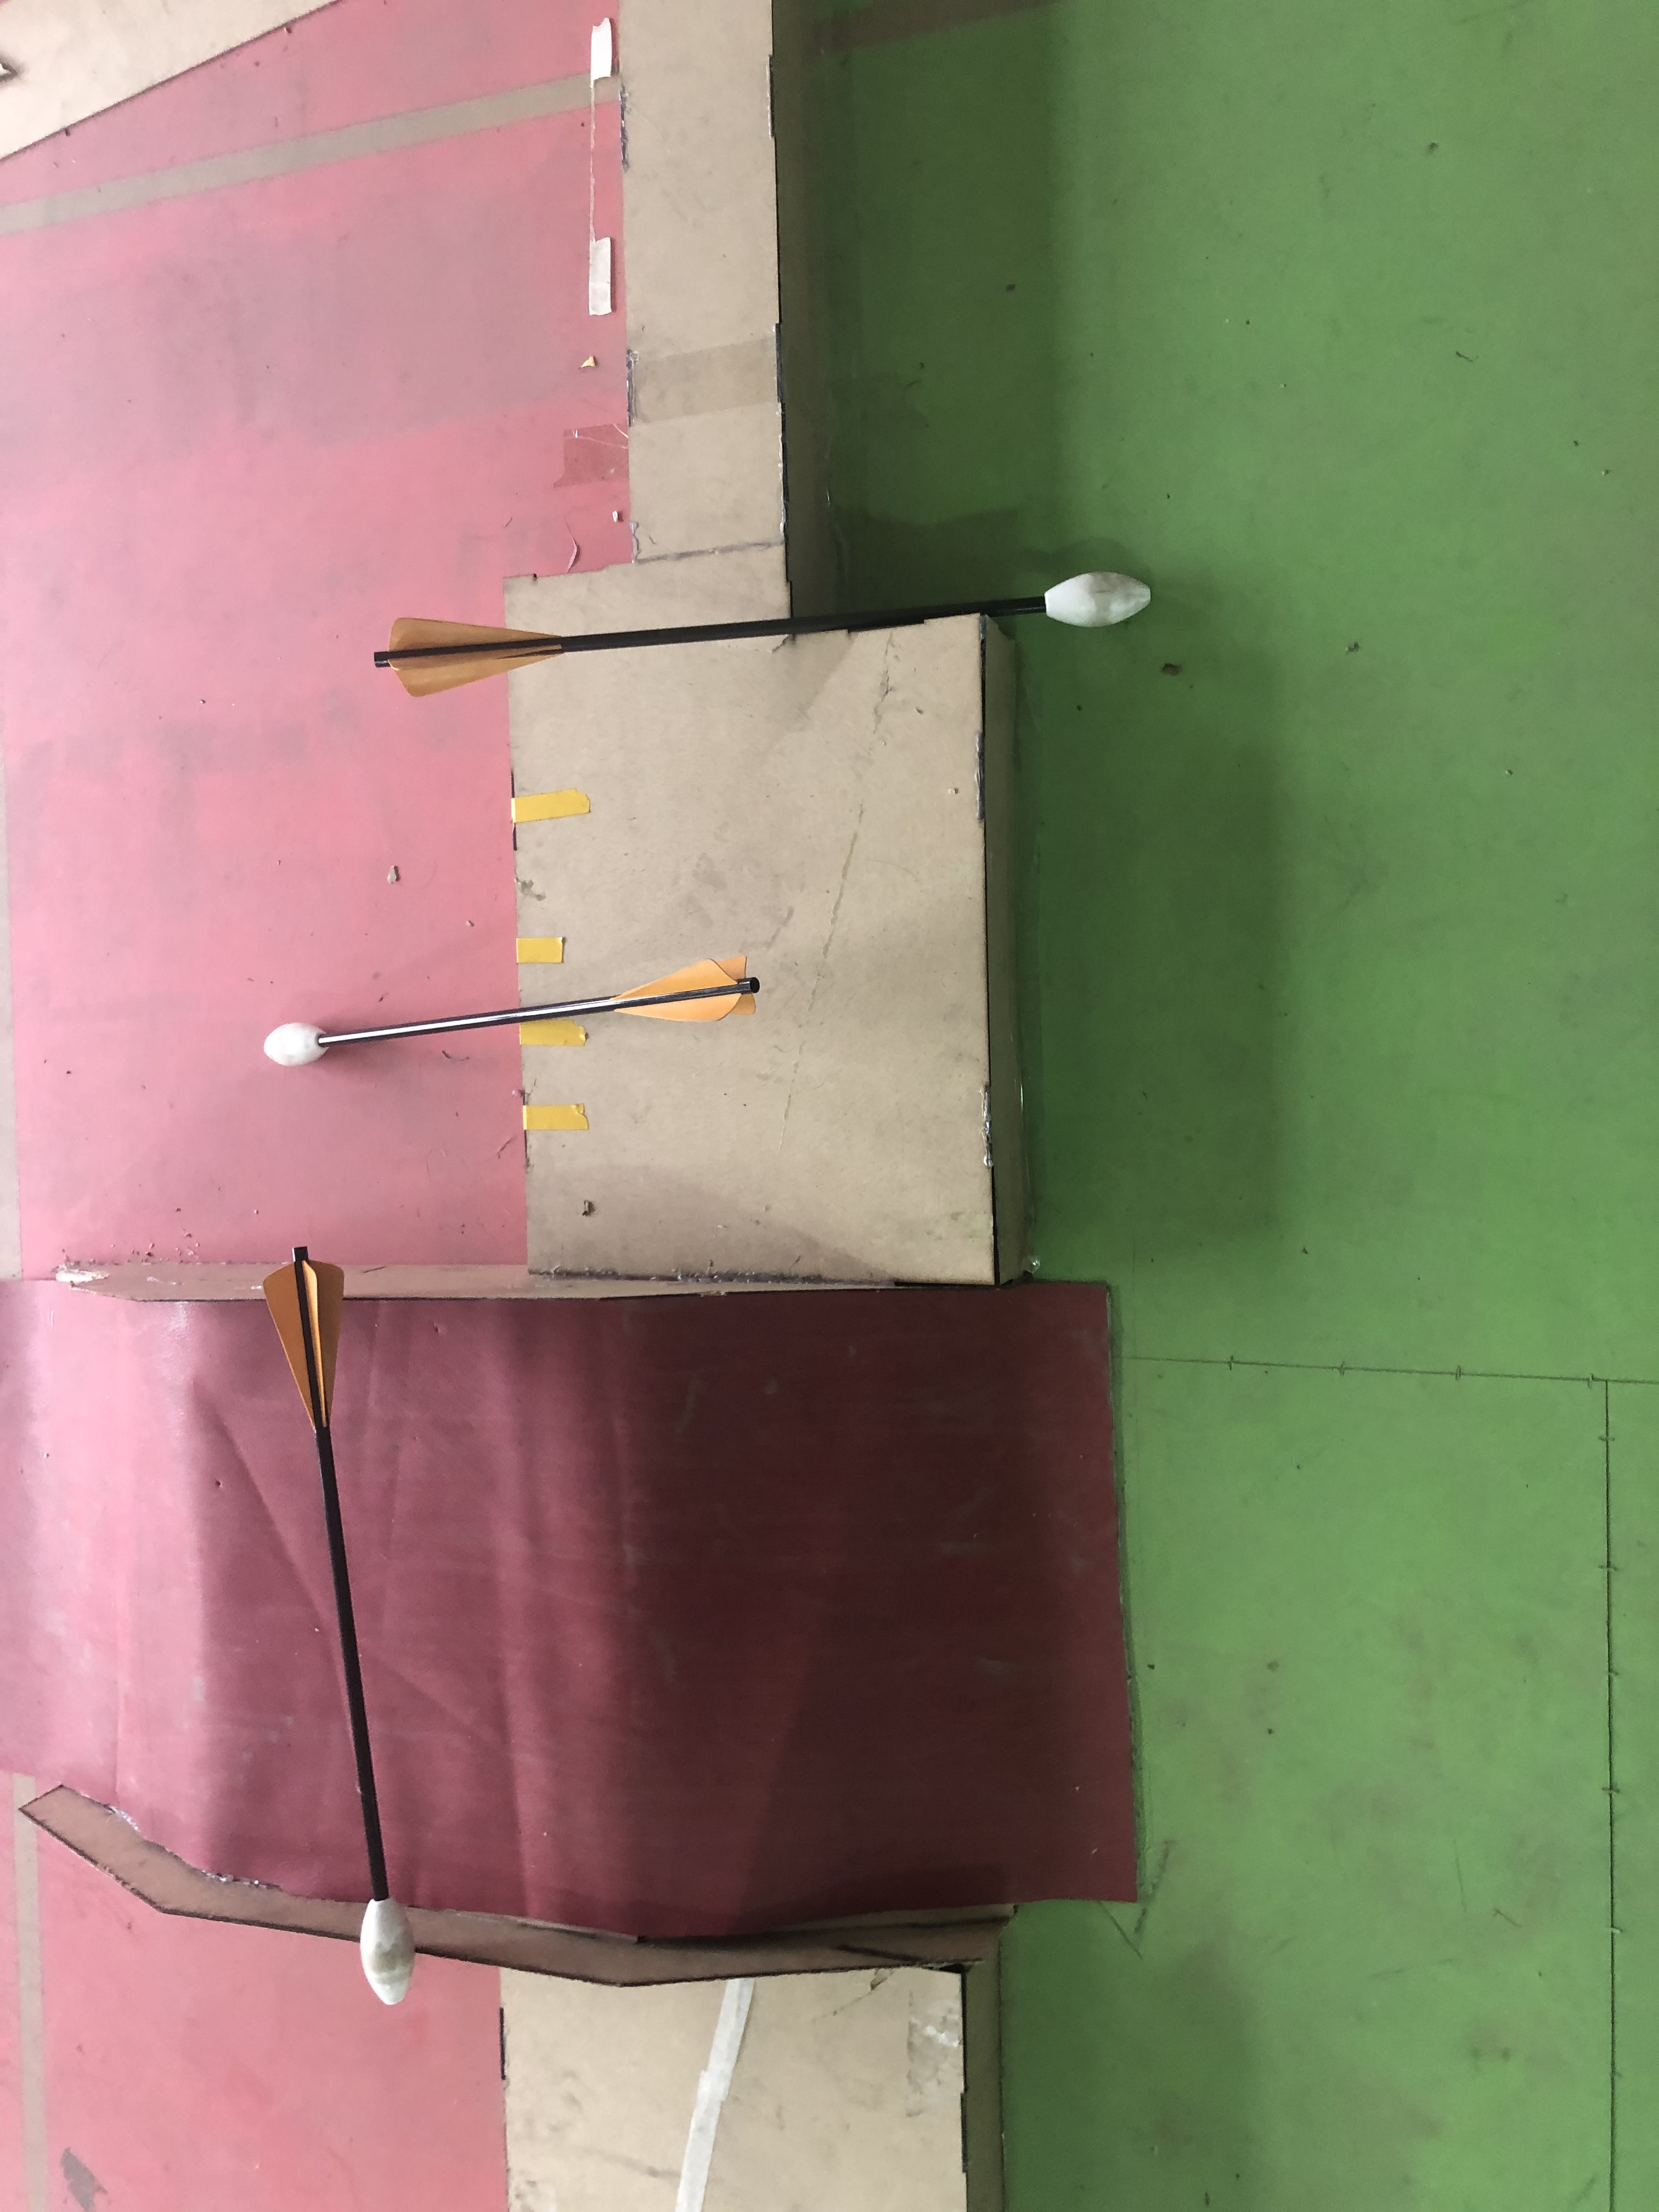arrow: (261, 1238, 423, 2005), (371, 566, 1155, 702), (261, 948, 755, 1069)
arrowFront: (1035, 563, 1161, 629), (354, 1893, 418, 2005), (261, 1022, 333, 1062)
